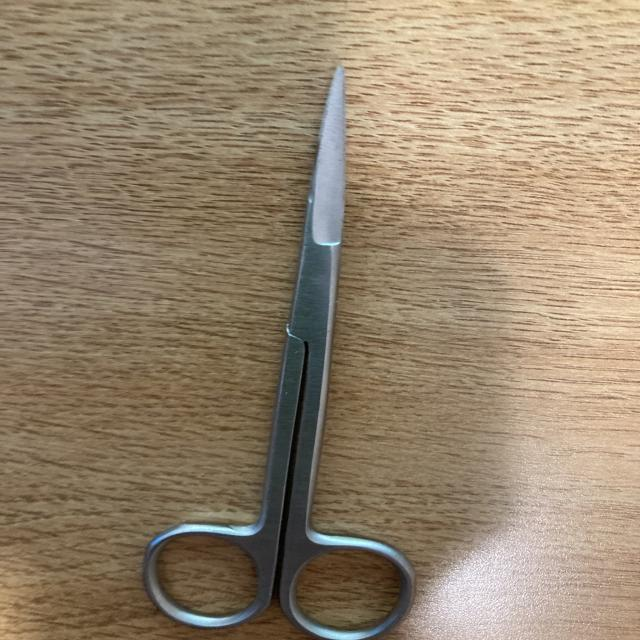scissor: (140, 59, 442, 640)
